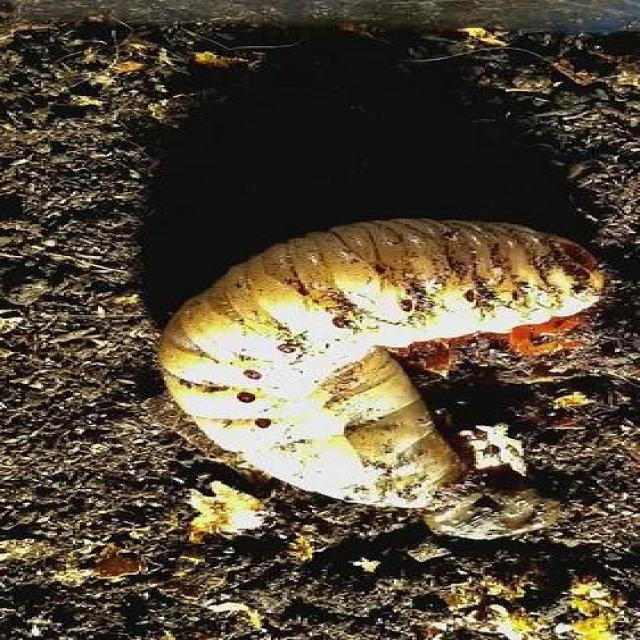grub: (148, 217, 601, 520)
